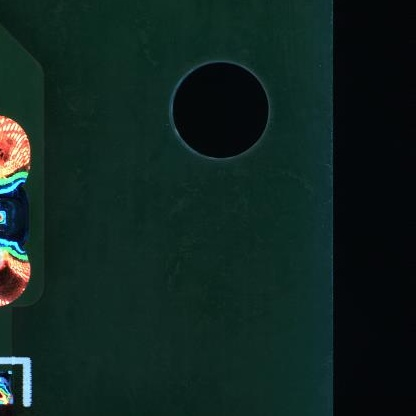spot: (1, 185, 29, 248)
